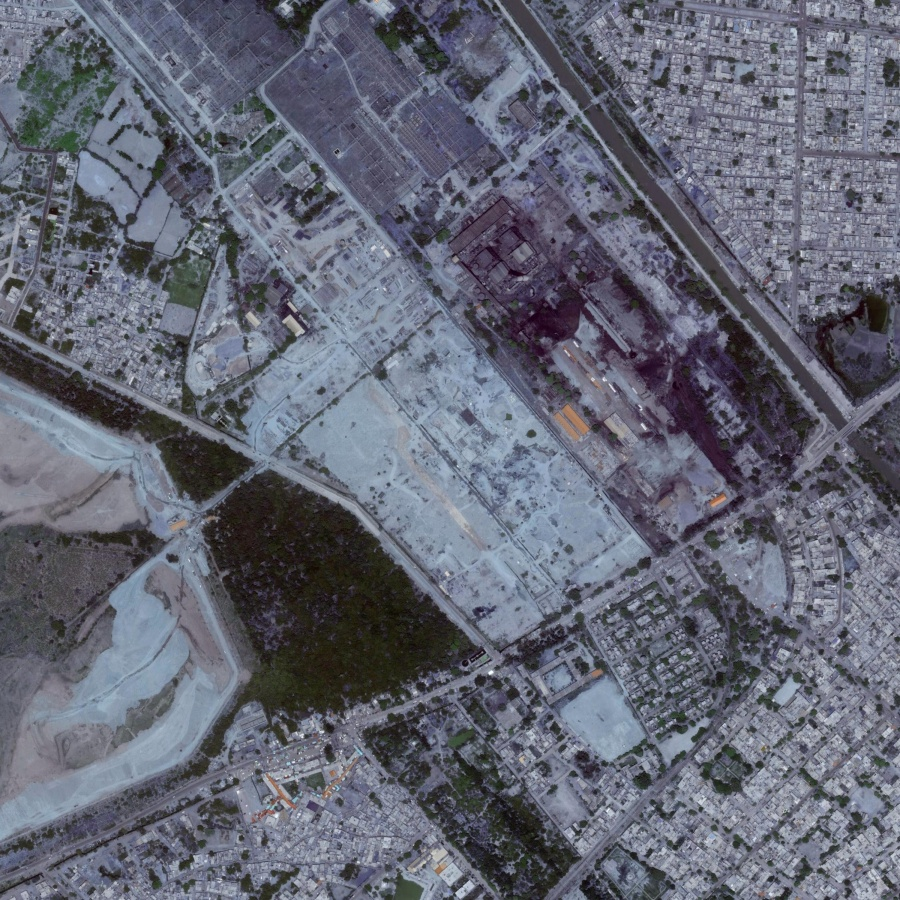PowerPlant: (449, 191, 748, 514)
